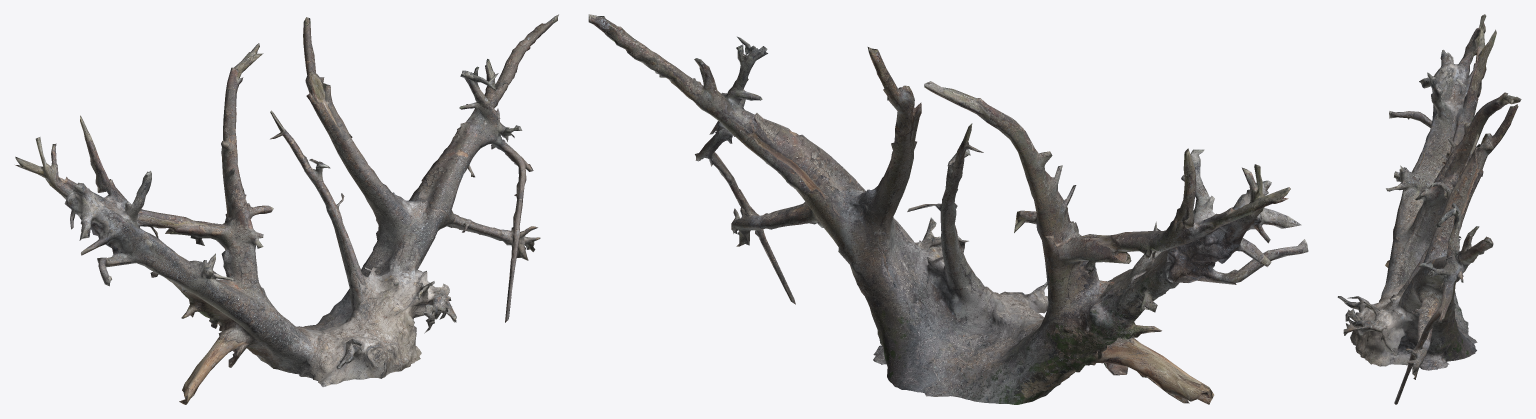
File: SM_TreeStump_06_02.fbx
The picture shows the model from 3 angles, left to right: view 1: azimuth 30°, elevation 25°; view 2: azimuth 150°, elevation 25°; view 3: azimuth 270°, elevation 25°; orthographic projection. The views are drawn at different scales.
Visible parts, largest first — view 1: sm_TreeStump_06_02_LOD0; view 2: sm_TreeStump_06_02_LOD0; view 3: sm_TreeStump_06_02_LOD0.
Part boxes in pixels (x1,y1,x2,y2): sm_TreeStump_06_02_LOD0: (15, 14, 558, 404); sm_TreeStump_06_02_LOD0: (588, 14, 1308, 404); sm_TreeStump_06_02_LOD0: (1337, 14, 1521, 404).
Bounding box in the file's own units: 85.03 × 253 × 126.
